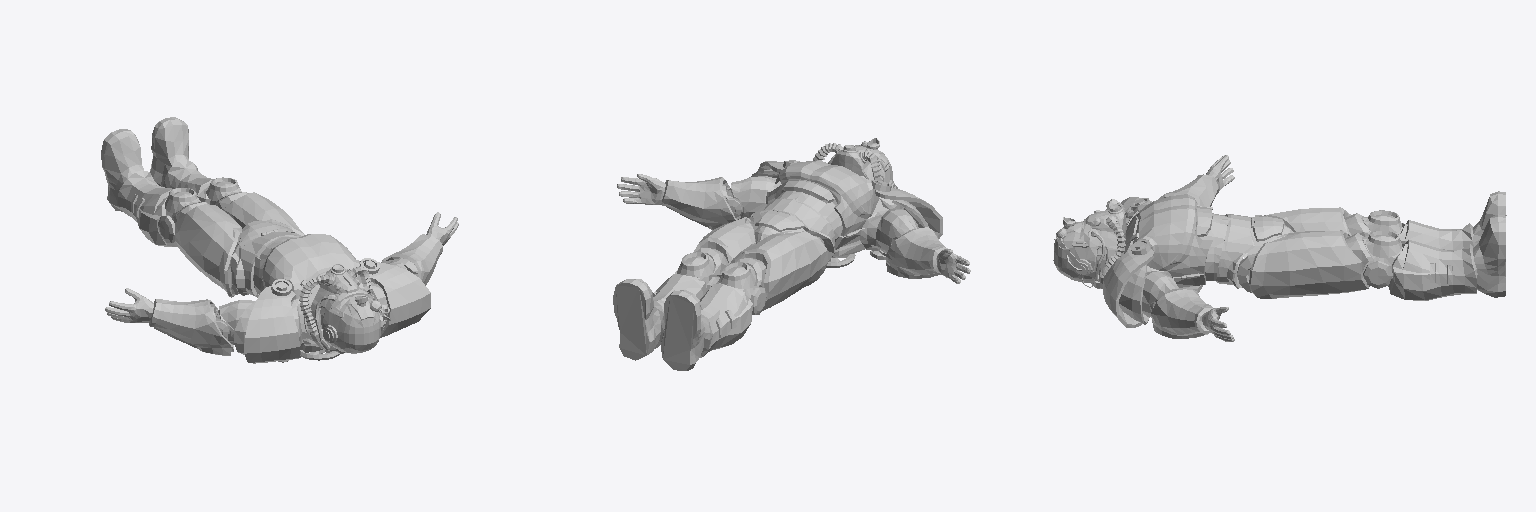
3 views of the same model, side by side, from view 1: azimuth 30°, elevation 25°; view 2: azimuth 150°, elevation 25°; view 3: azimuth 270°, elevation 25° (orthographic).
Parts seen in each view (by area): view 1: UpperBody, Helmet, PipboyOff, Arms02, lefthand; view 2: UpperBody, Arms02, PipboyOff, Helmet, righthand, lefthand; view 3: UpperBody, Helmet, Arms02, PipboyOff, righthand, lefthand.
Boxes of the visible parts, box(x1,y1,x2,y2) form: UpperBody: box(101, 117, 430, 363); Helmet: box(299, 264, 390, 353); PipboyOff: box(149, 299, 255, 355); Arms02: box(370, 234, 442, 285); lefthand: box(105, 288, 153, 322); UpperBody: box(613, 160, 942, 370); Arms02: box(661, 176, 776, 229); PipboyOff: box(867, 207, 947, 278); Helmet: box(813, 138, 897, 188); righthand: box(617, 174, 665, 204); lefthand: box(937, 249, 970, 283); UpperBody: box(1103, 191, 1506, 327); Helmet: box(1053, 199, 1126, 288); Arms02: box(1142, 270, 1212, 338); PipboyOff: box(1158, 174, 1218, 206); righthand: box(1202, 307, 1234, 341); lefthand: box(1206, 155, 1234, 190).
Size of the model in its own units: 116 by 33.01 by 128.